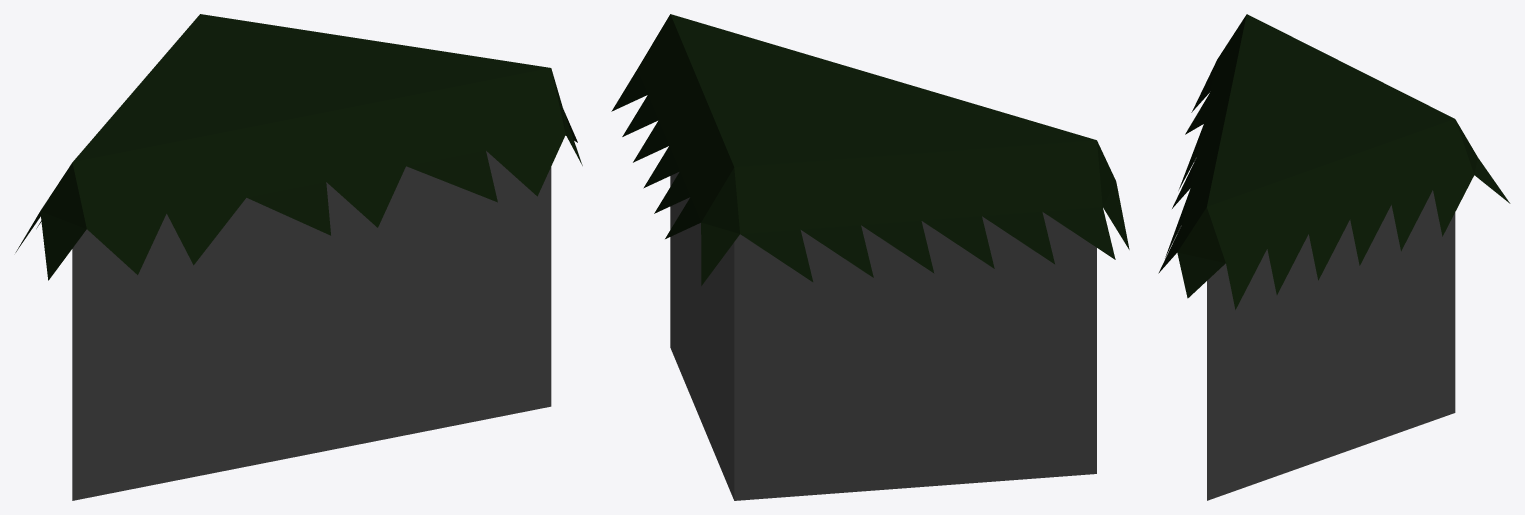
Rendered from Tile_Tri_Stone.fbx.
The picture shows the model from 3 angles, left to right: view 1: azimuth 30°, elevation 25°; view 2: azimuth 150°, elevation 25°; view 3: azimuth 270°, elevation 25°; orthographic projection. The views are drawn at different scales.
Parts seen in each view (by area): view 1: blockCornerLarge; view 2: blockCornerLarge; view 3: blockCornerLarge.
Boxes of the visible parts, <box> form: blockCornerLarge: <box>15,14,582,500</box>; blockCornerLarge: <box>611,14,1129,500</box>; blockCornerLarge: <box>1158,14,1510,500</box>.
Size of the model in its own units: 65.46 by 42.84 by 39.37.
